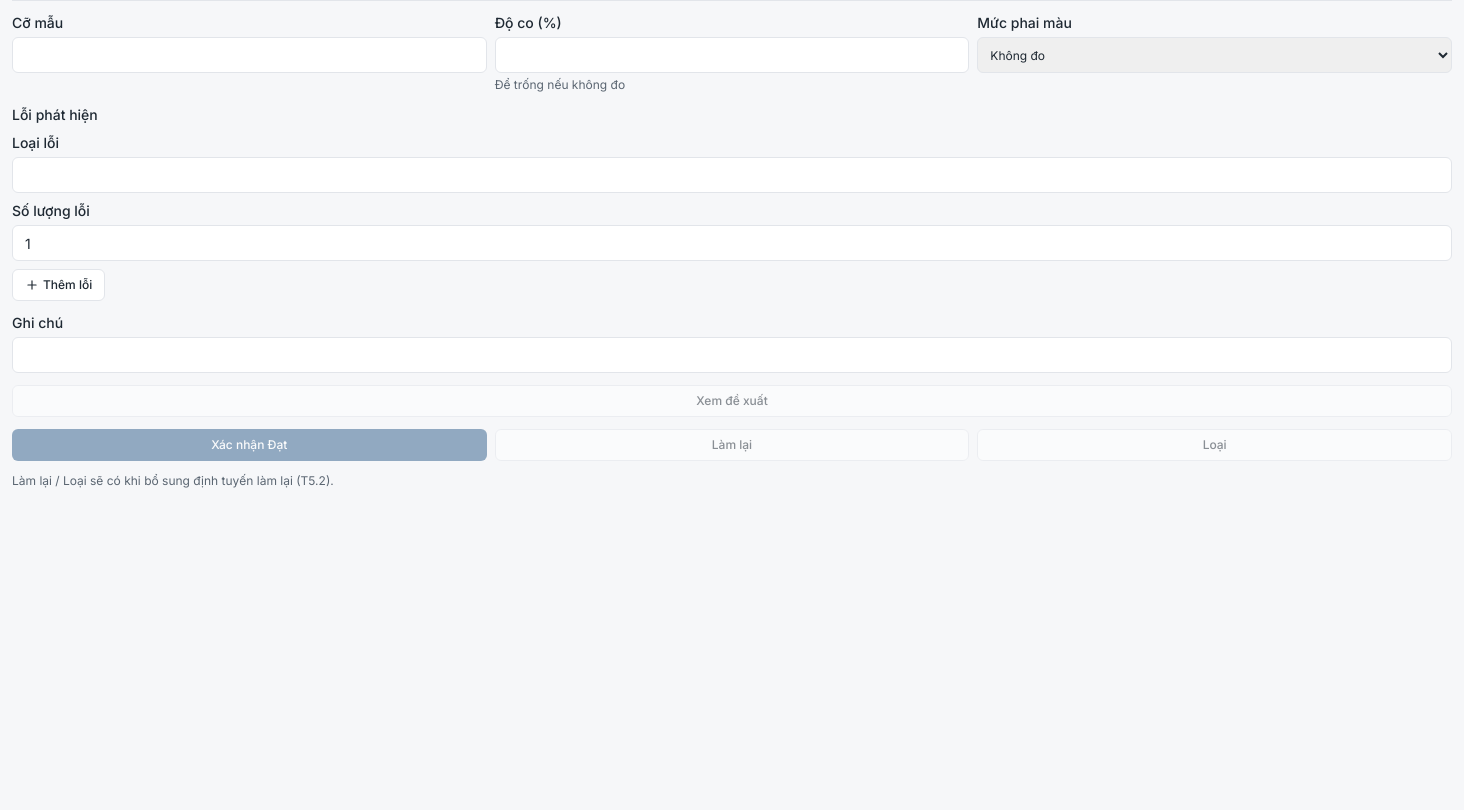
Test: QcPanel (T5.1, FR-16) › drops the preview when an input changes
Type "20" into the number field labelled "Cỡ mẫu".
click(249, 55); type("20")  # box [12,37,487,73]
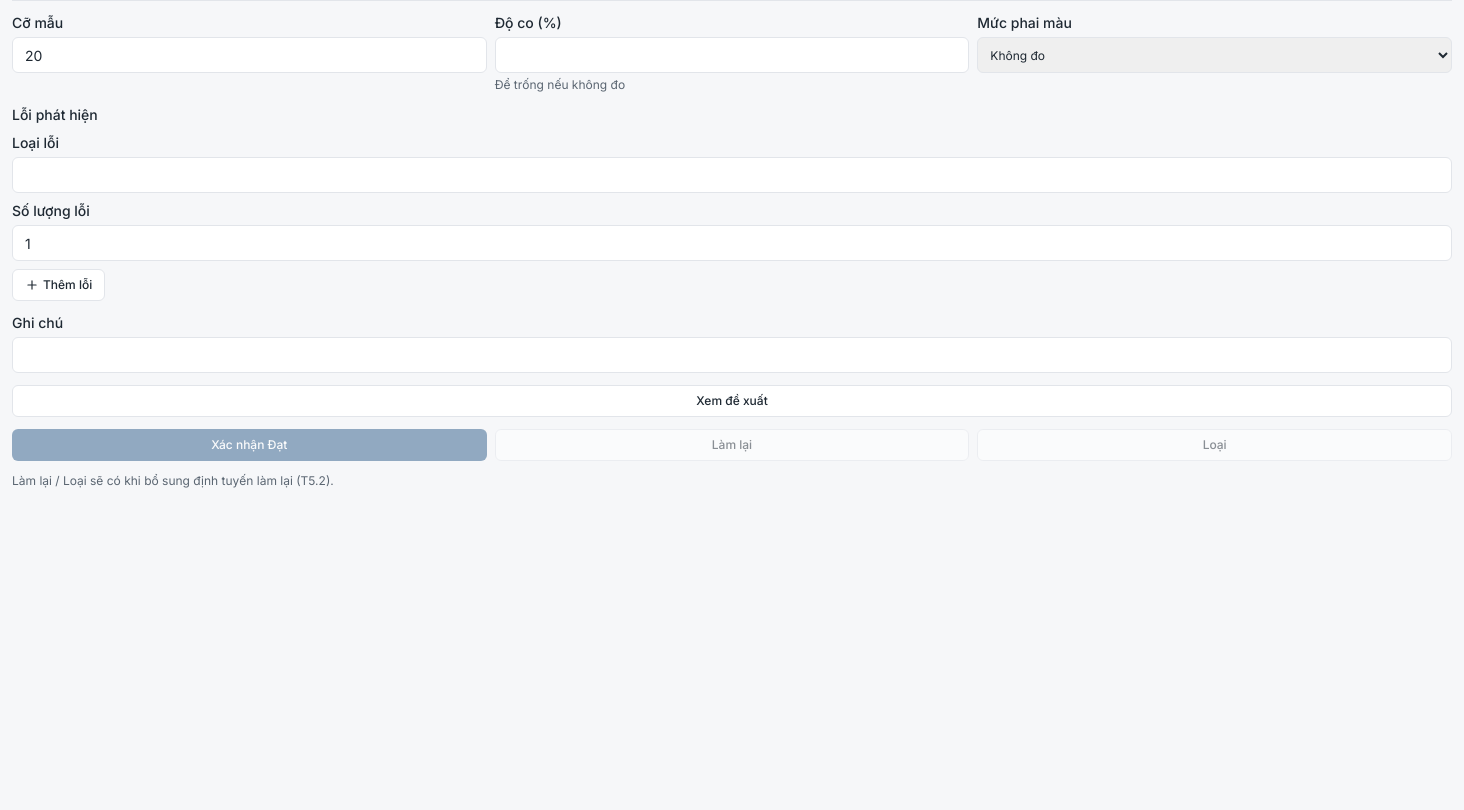
Click the button "Xem đề xuất".
click(732, 401)  # box [12,385,1452,417]
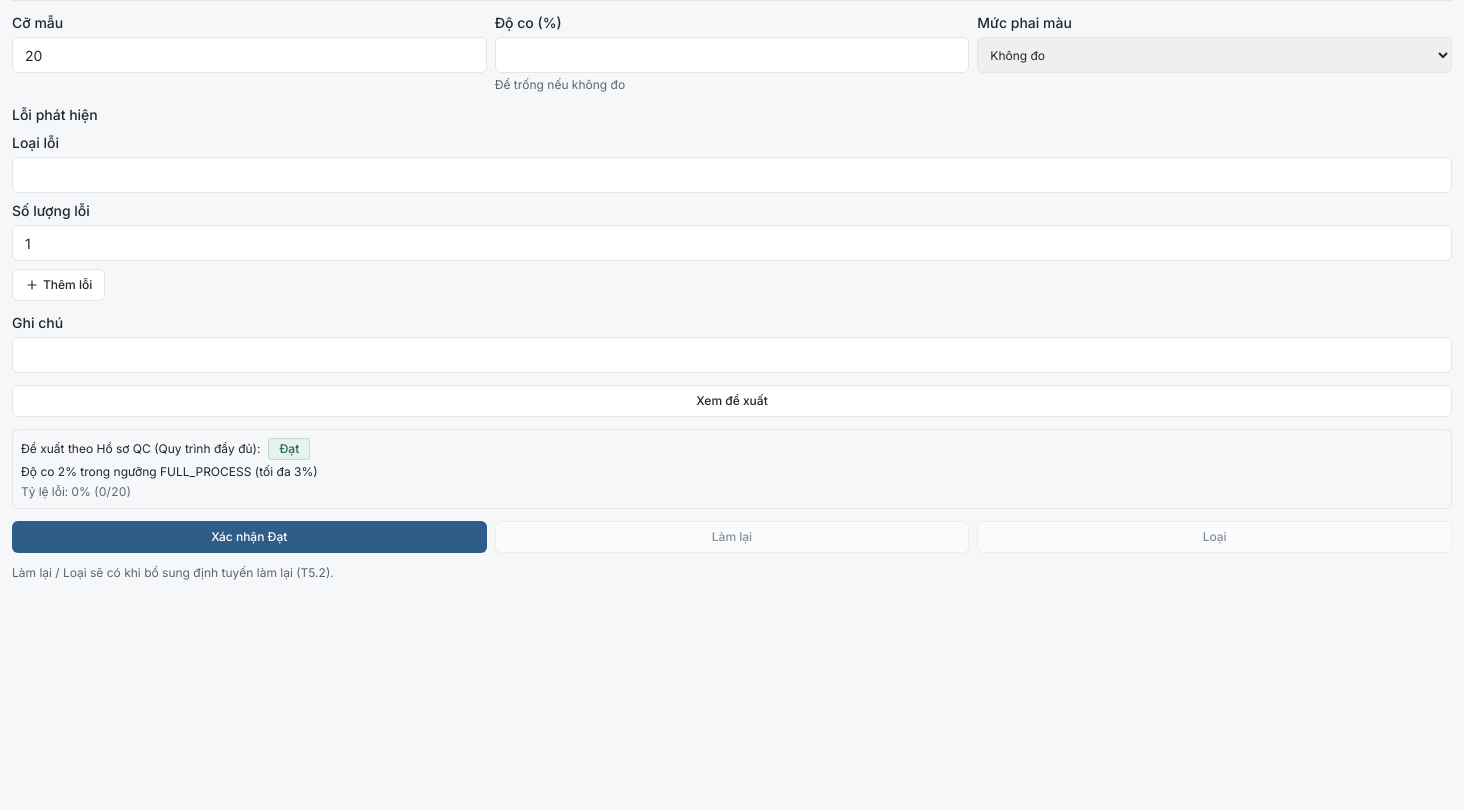
Now the button "Xác nhận Đạt" is enabled, box [12,521,487,553]
Type "9" into the number field labelled "Độ co (%)".
click(732, 55); type("9")  # box [495,37,969,73]
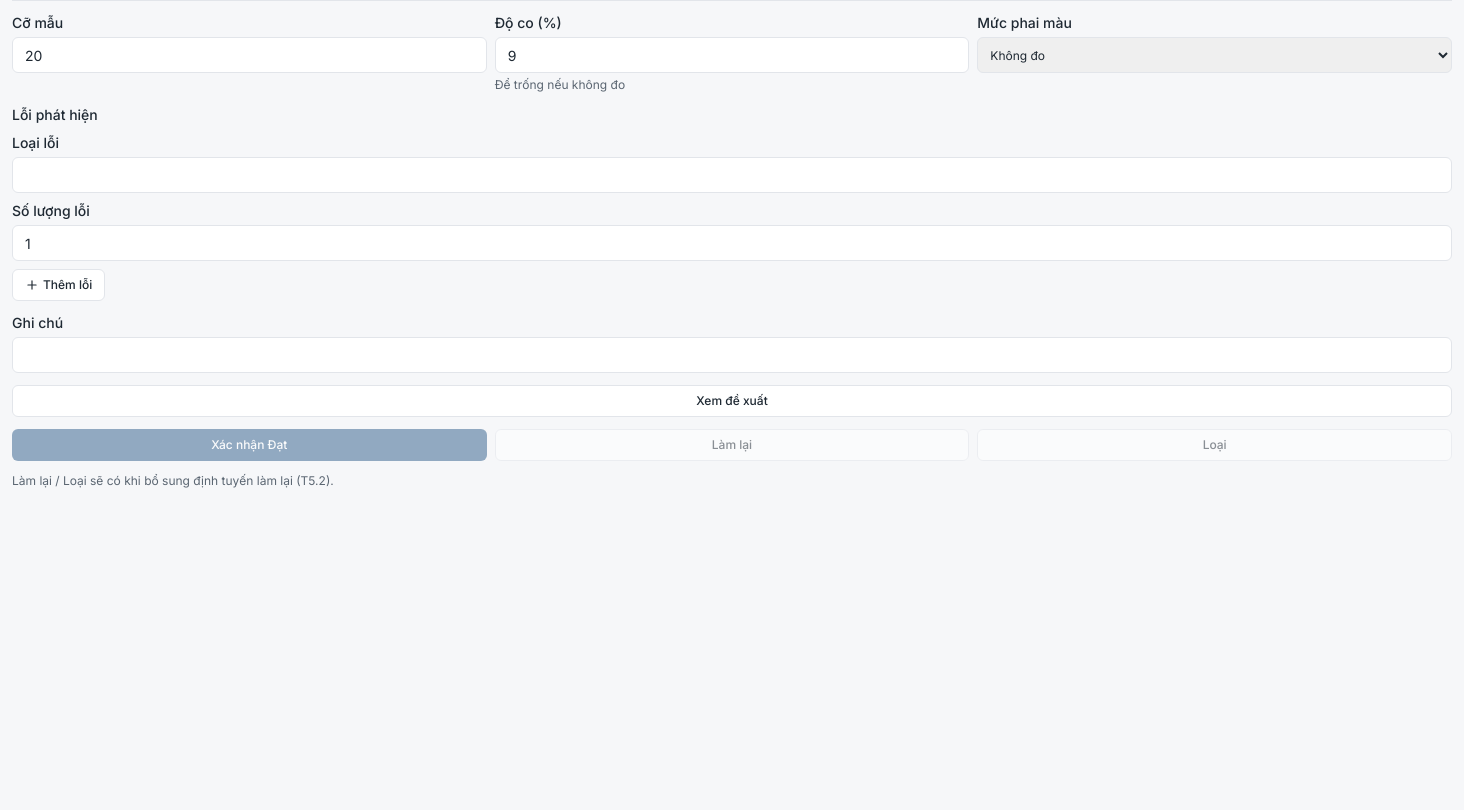
Now the button "Xác nhận Đạt" is disabled, box [12,429,487,461]
